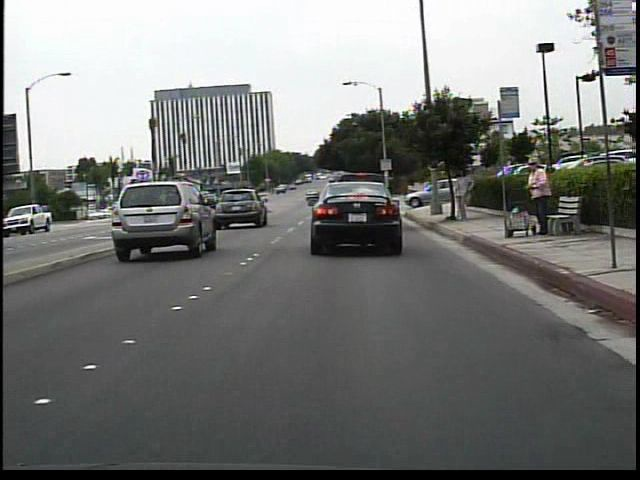person: (521, 153, 553, 236), (450, 165, 476, 223)
